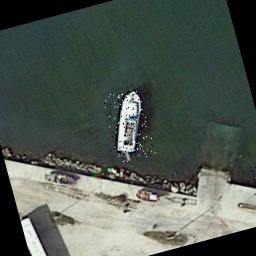boat: (100, 86, 156, 164), (251, 162, 256, 189)
